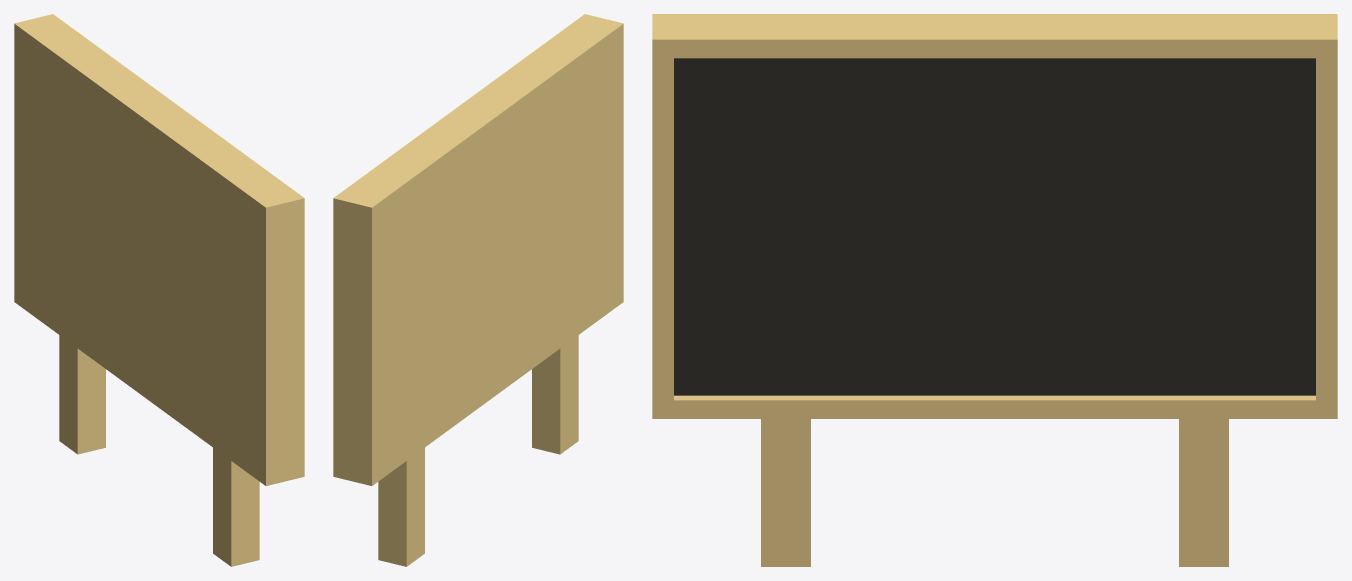
File: board.fbx
3 views of the same model, side by side, from view 1: azimuth 30°, elevation 25°; view 2: azimuth 150°, elevation 25°; view 3: azimuth 270°, elevation 25° (orthographic). The views are drawn at different scales.
Parts seen in each view (by area): view 1: 立方体; view 2: 立方体; view 3: 立方体.
Part boxes in pixels (left/top/right/bottom): 立方体: left=14, top=14, right=304, bottom=566; 立方体: left=333, top=14, right=623, bottom=566; 立方体: left=652, top=14, right=1337, bottom=566.
Size of the model in its own units: 3.28 by 0.2921 by 2.8.
Materials: 1 (1 with a texture image).
